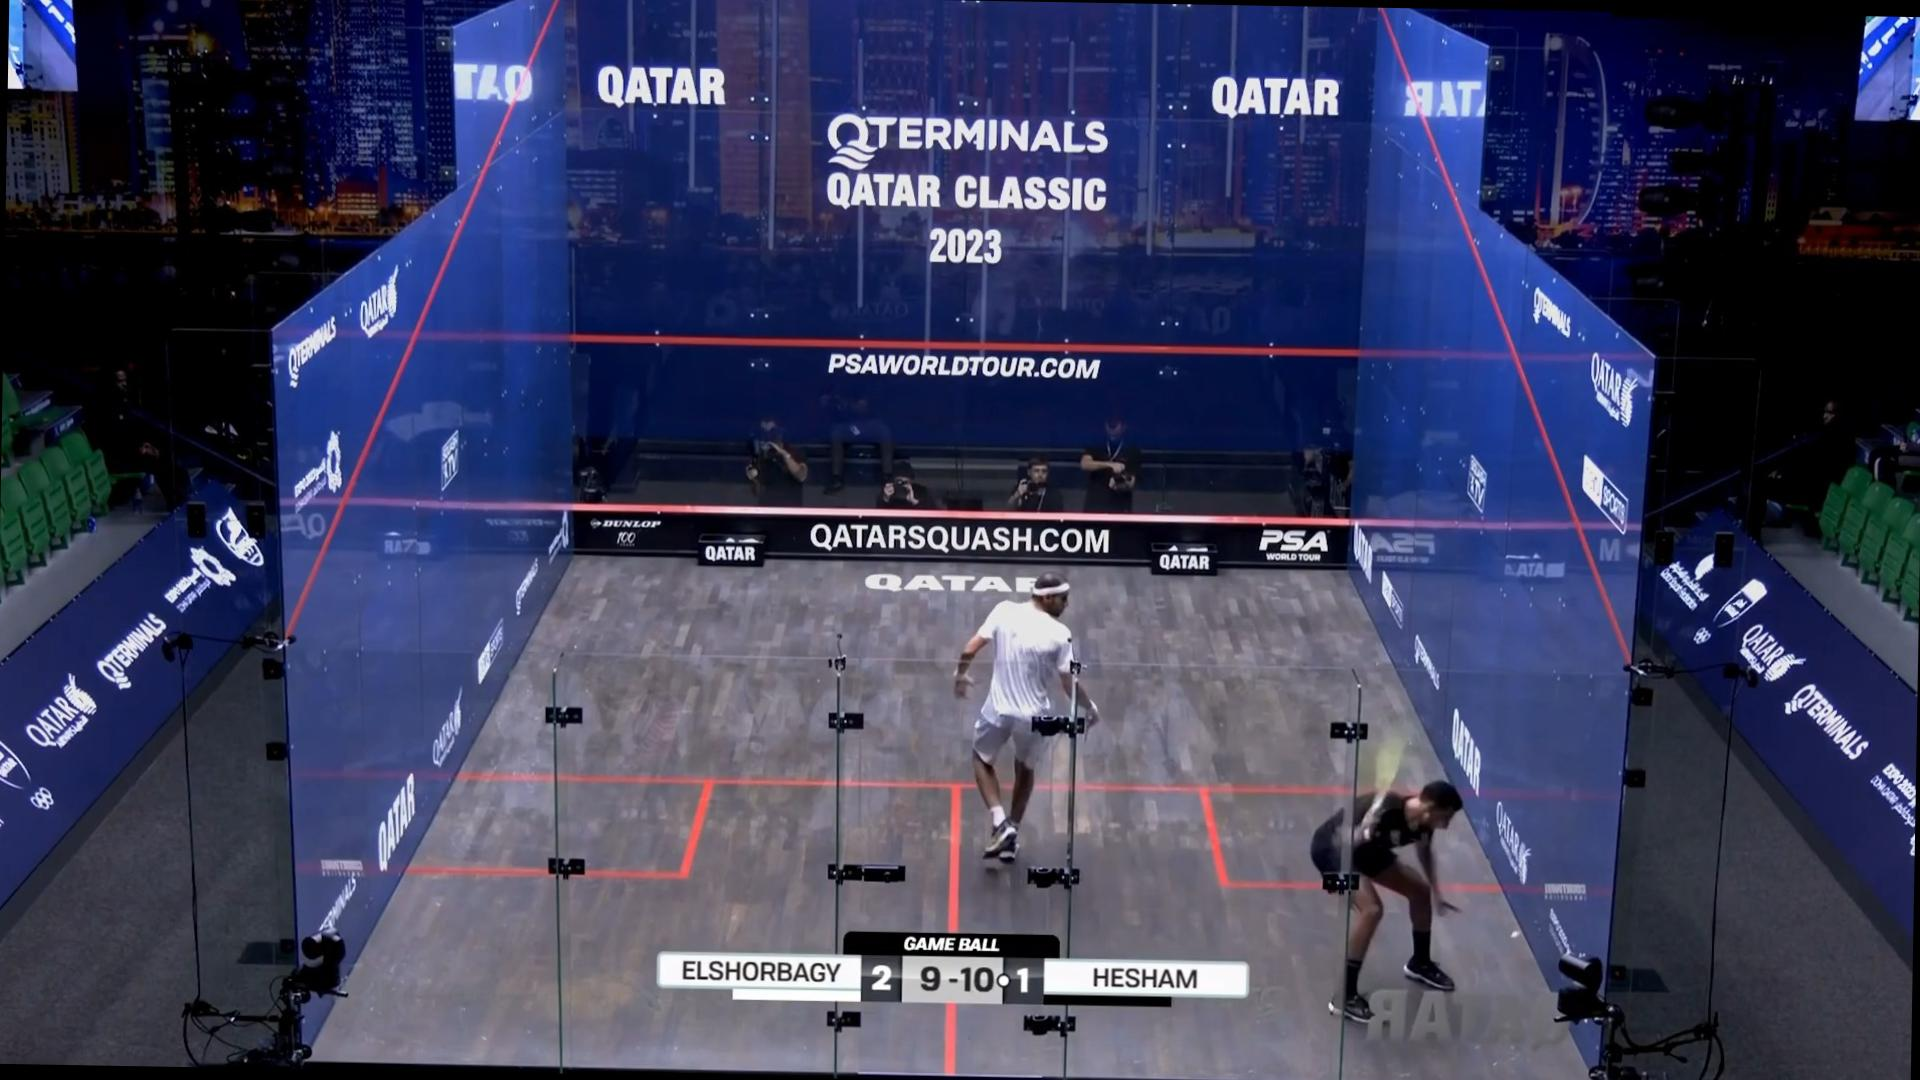Squash-Ball: (1499, 918, 1530, 951)
